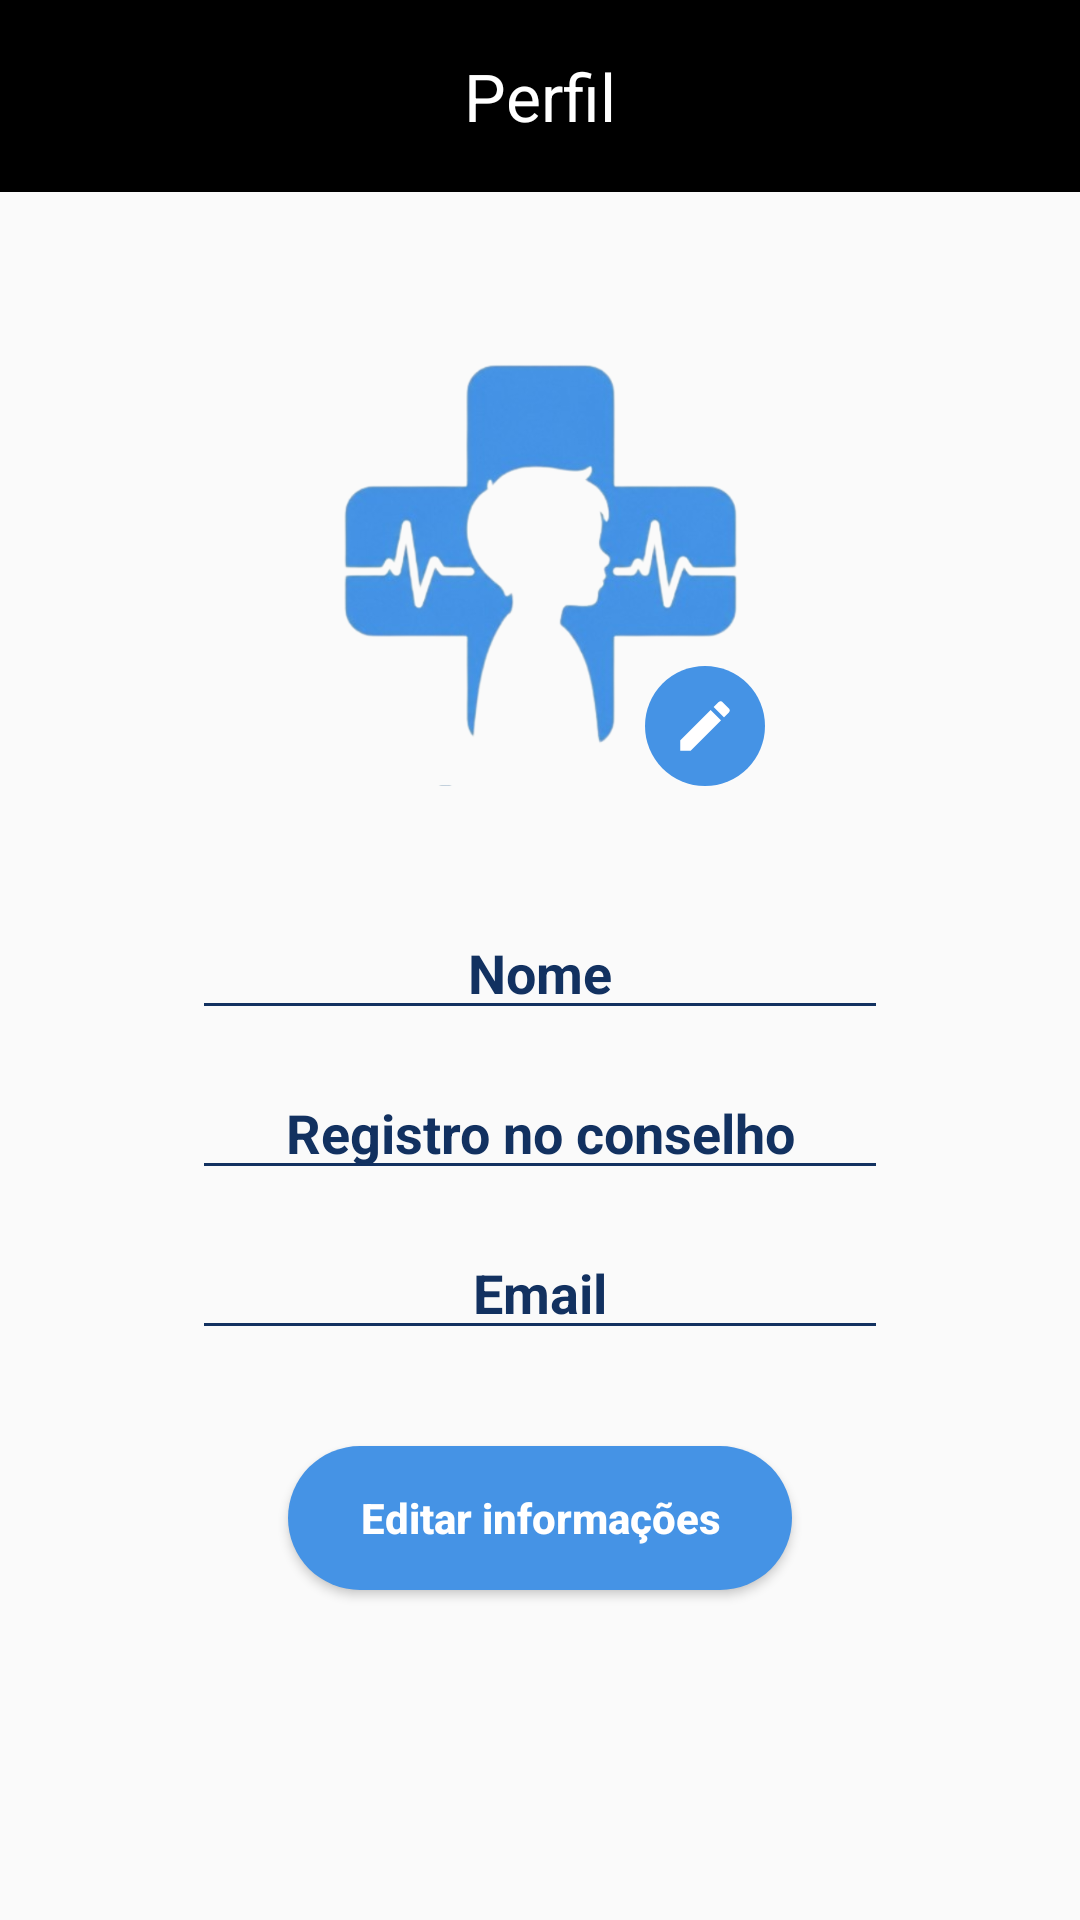

Icon bounding boxes for this 1080*1920 phone screenshot, format bbox=(x1, y1, x2, y2):
Editar foto: bbox=(645, 666, 765, 786)
